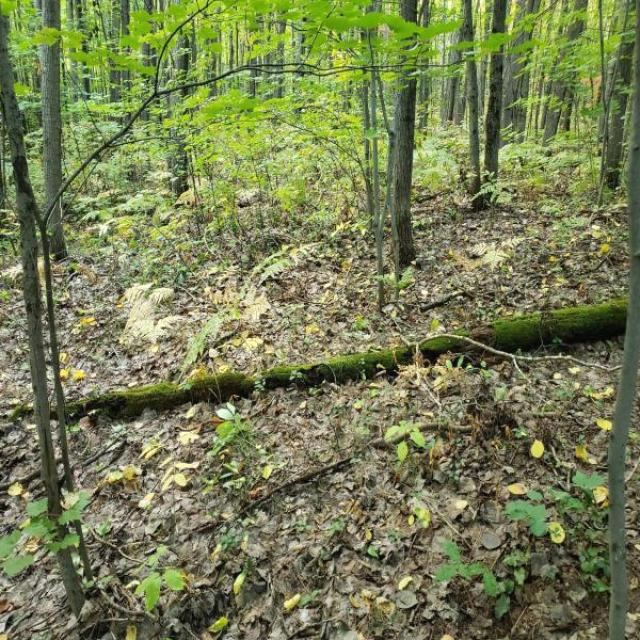fallen_object: (5, 279, 640, 442)
